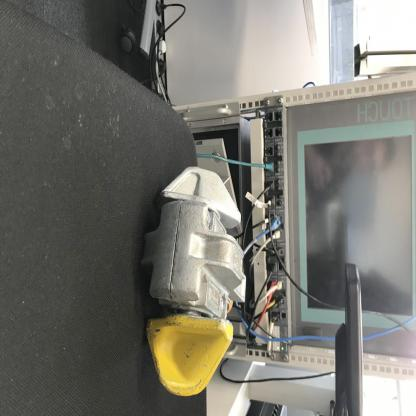Twistlock: (136, 161, 248, 401)
